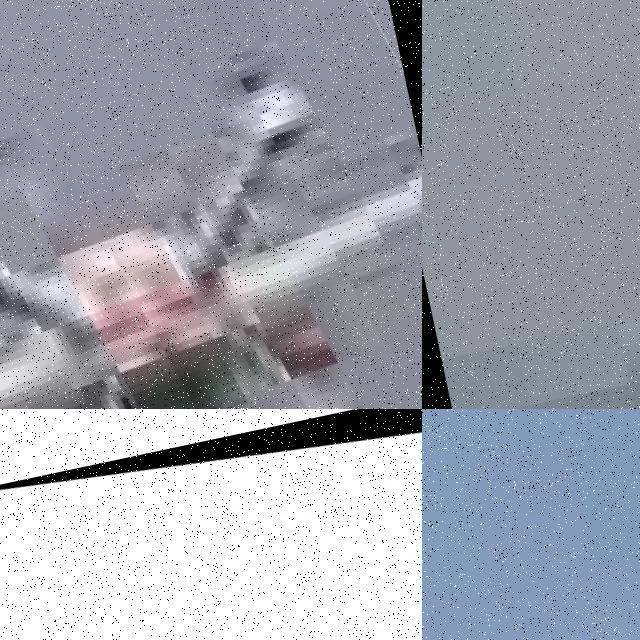0: (0, 0, 422, 409)
drone: (0, 409, 422, 640)
